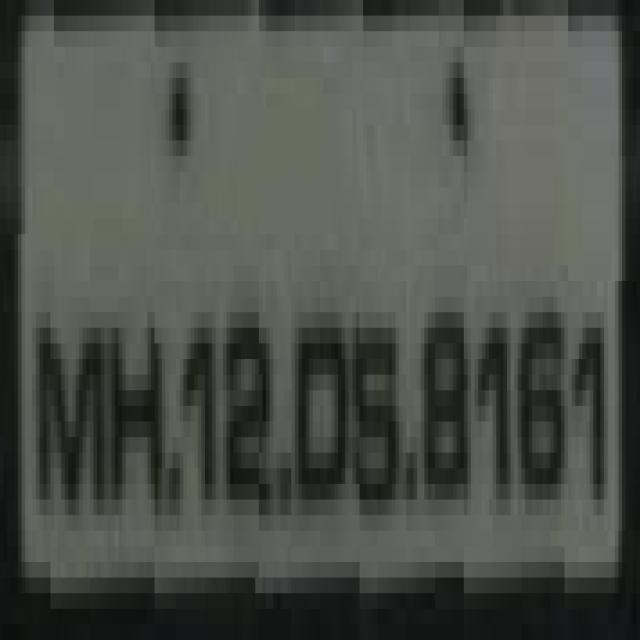license_plate: (32, 31, 640, 578)
